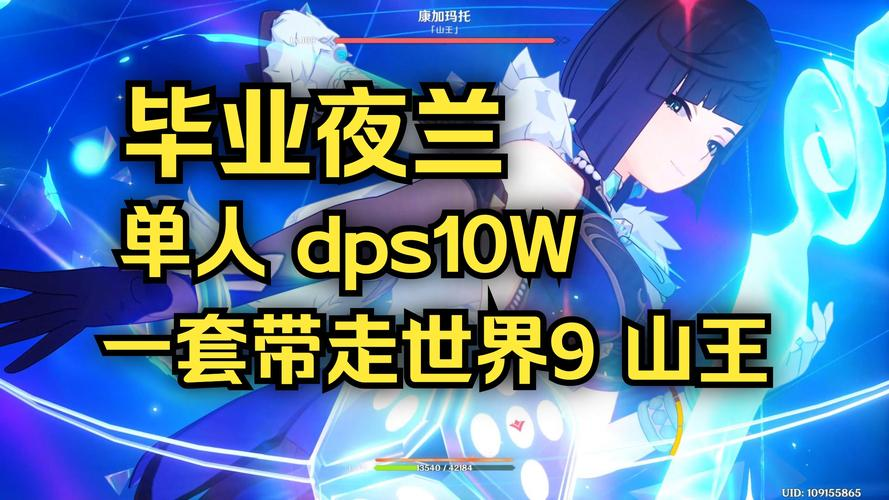夜兰: (1, 1, 846, 500)
